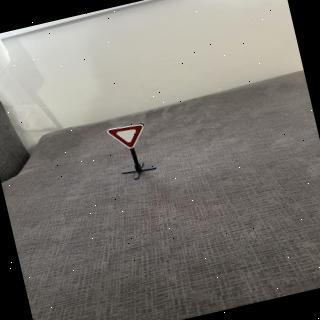sign_yield: (105, 120, 150, 155)
